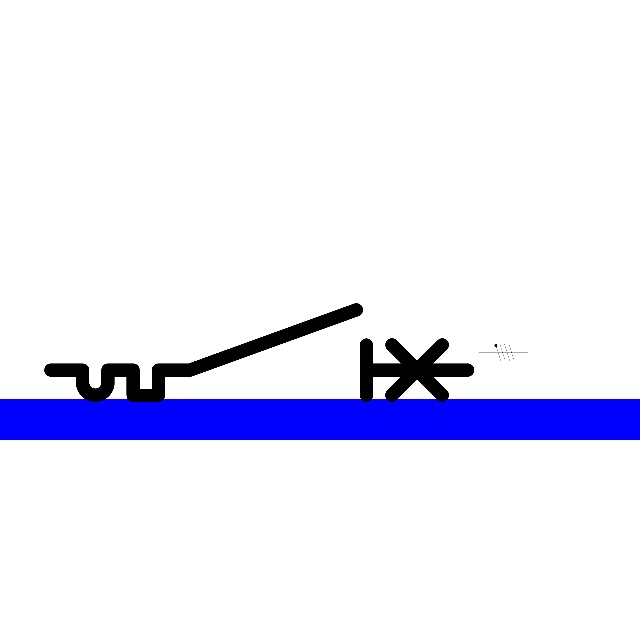interruptor_termomagnetico: (40, 299, 479, 406)
